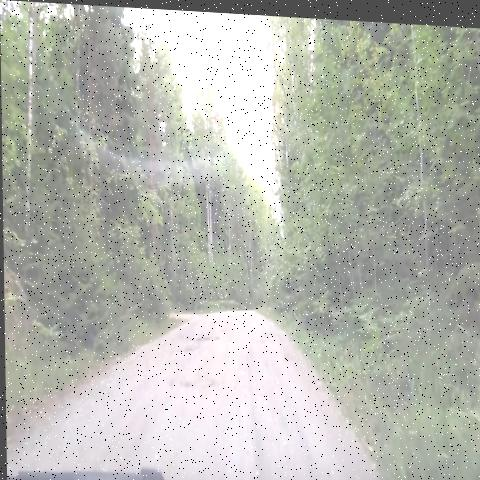pothole: (167, 366, 224, 397), (181, 321, 219, 347), (164, 336, 201, 362)
